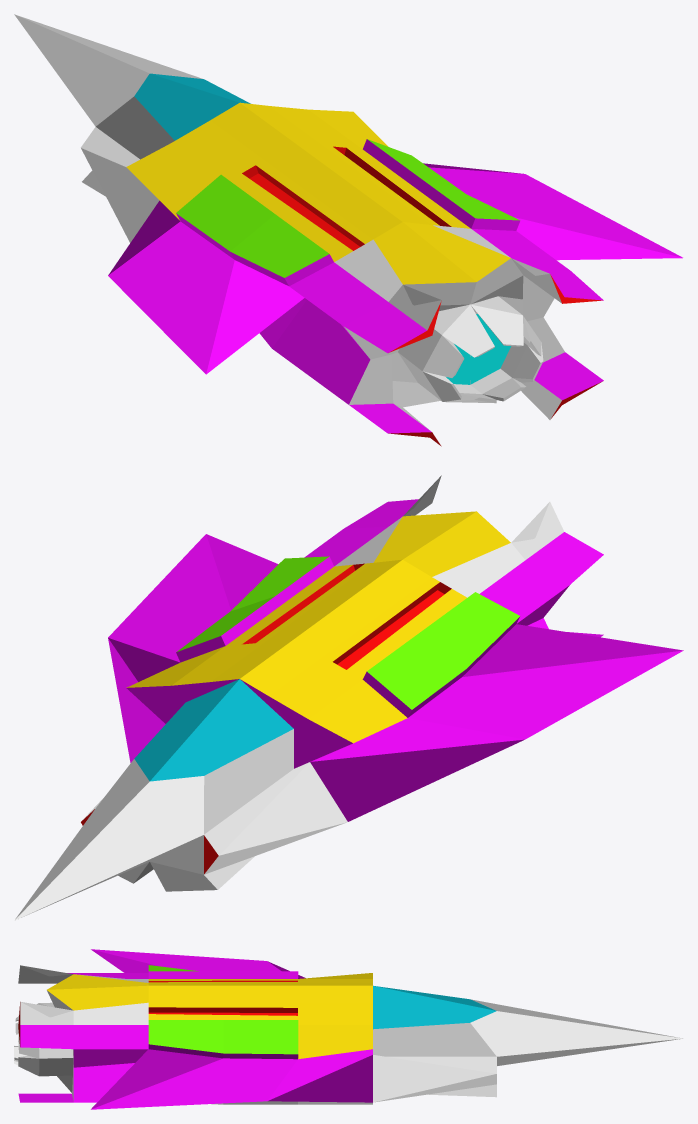
File: FBX_FirstCar.fbx
The picture shows the model from 3 angles, top to bottom: view 1: azimuth 30°, elevation 25°; view 2: azimuth 150°, elevation 25°; view 3: azimuth 270°, elevation 25°; orthographic projection. The views are drawn at different scales.
Parts seen in each view (by area): view 1: Car; view 2: Car; view 3: Car.
Boxes of the visible parts, bbox=[...] form: Car: bbox=[14, 14, 682, 446]; Car: bbox=[14, 475, 683, 920]; Car: bbox=[14, 949, 682, 1109].
Bounding box in the file's own units: 1042 × 306 × 1837.
